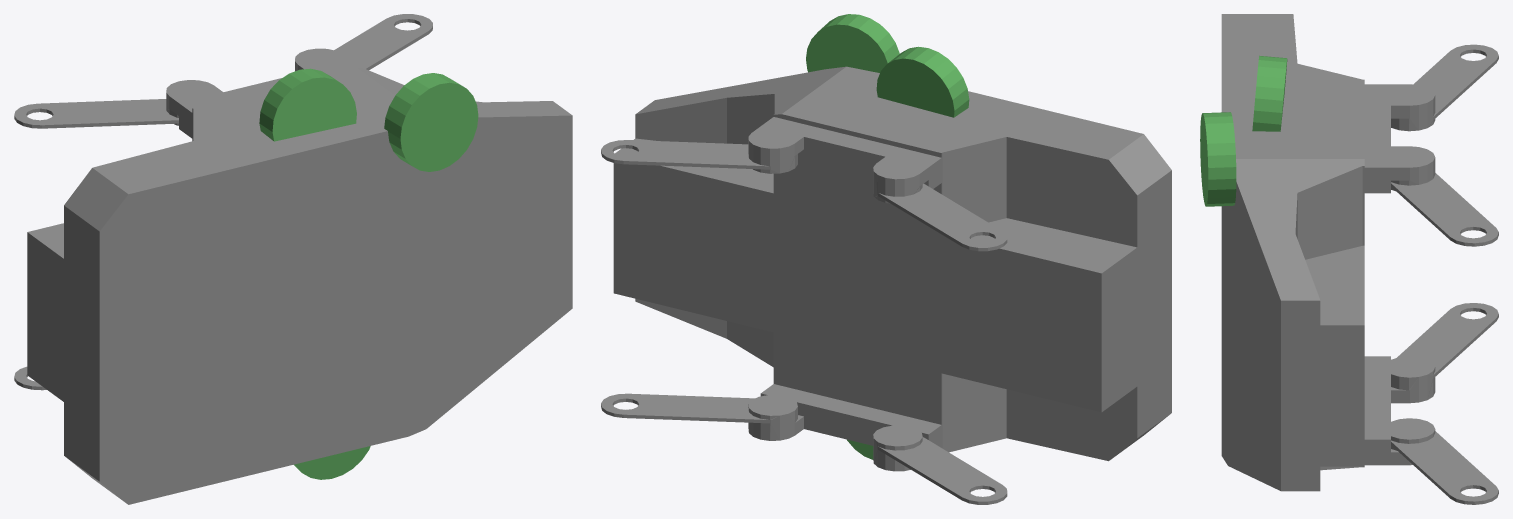
Rendered from rbsummit_xl_policy_bo32.glb.
3 renders of one model, left to right at view 1: azimuth 30°, elevation 25°; view 2: azimuth 150°, elevation 25°; view 3: azimuth 270°, elevation 25°, orthographic. The views are drawn at different scales.
Parts seen in each view (by area): view 1: rbsummit_xl_chassis_simple.stl, world; view 2: rbsummit_xl_chassis_simple.stl, world; view 3: rbsummit_xl_chassis_simple.stl, world.
Boxes of the visible parts, x1=… form: rbsummit_xl_chassis_simple.stl: x1=14, y1=14, x2=572, y2=504; world: x1=259, y1=68, x2=478, y2=479; rbsummit_xl_chassis_simple.stl: x1=601, y1=66, x2=1171, y2=504; world: x1=806, y1=14, x2=969, y2=459; rbsummit_xl_chassis_simple.stl: x1=1221, y1=14, x2=1498, y2=504; world: x1=1200, y1=55, x2=1287, y2=206.
Size of the model in its own units: 0.61 by 0.482 by 0.3176.
